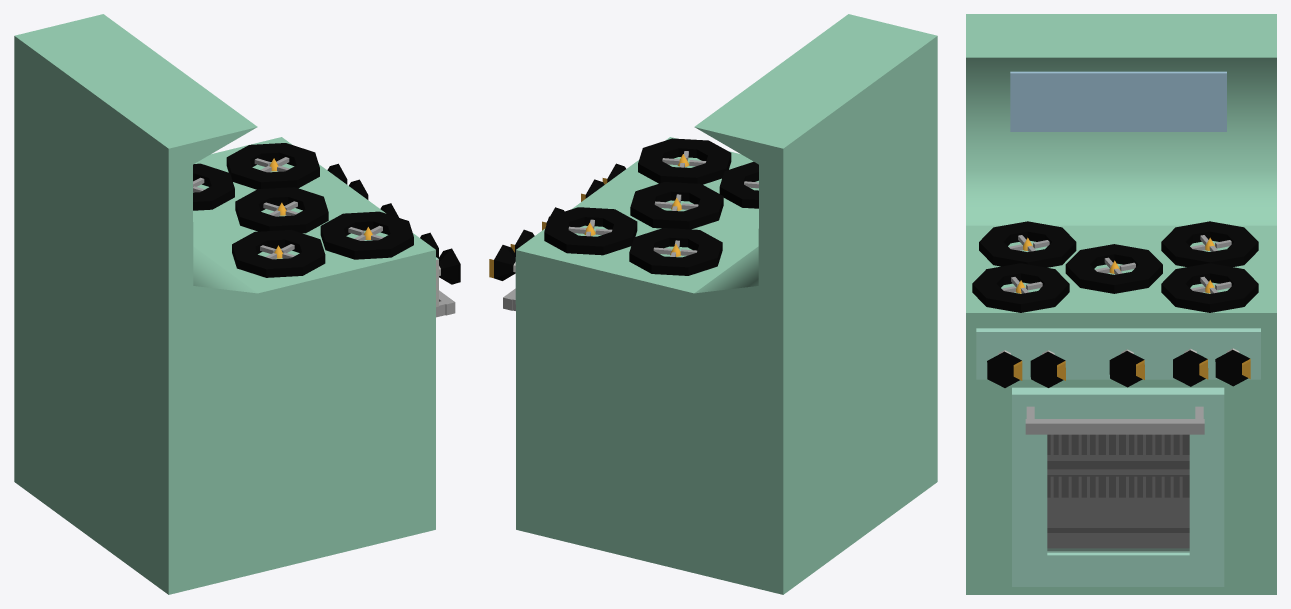
File: Stove_on.fbx
The picture shows the model from 3 angles, left to right: view 1: azimuth 30°, elevation 25°; view 2: azimuth 150°, elevation 25°; view 3: azimuth 270°, elevation 25°; orthographic projection.
Parts seen in each view (by area): view 1: Stove_On_Combined; view 2: Stove_On_Combined; view 3: Stove_On_Combined.
Boxes of the visible parts, bbox=[...] form: Stove_On_Combined: bbox=[14, 14, 460, 594]; Stove_On_Combined: bbox=[489, 14, 937, 594]; Stove_On_Combined: bbox=[966, 14, 1276, 594].
Bounding box in the file's own units: 118 × 160 × 100.
